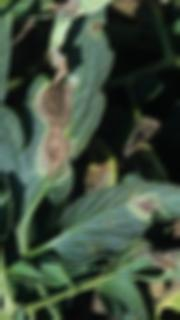Tomato leaf late blight: (0, 26, 118, 255), (45, 177, 180, 262)
